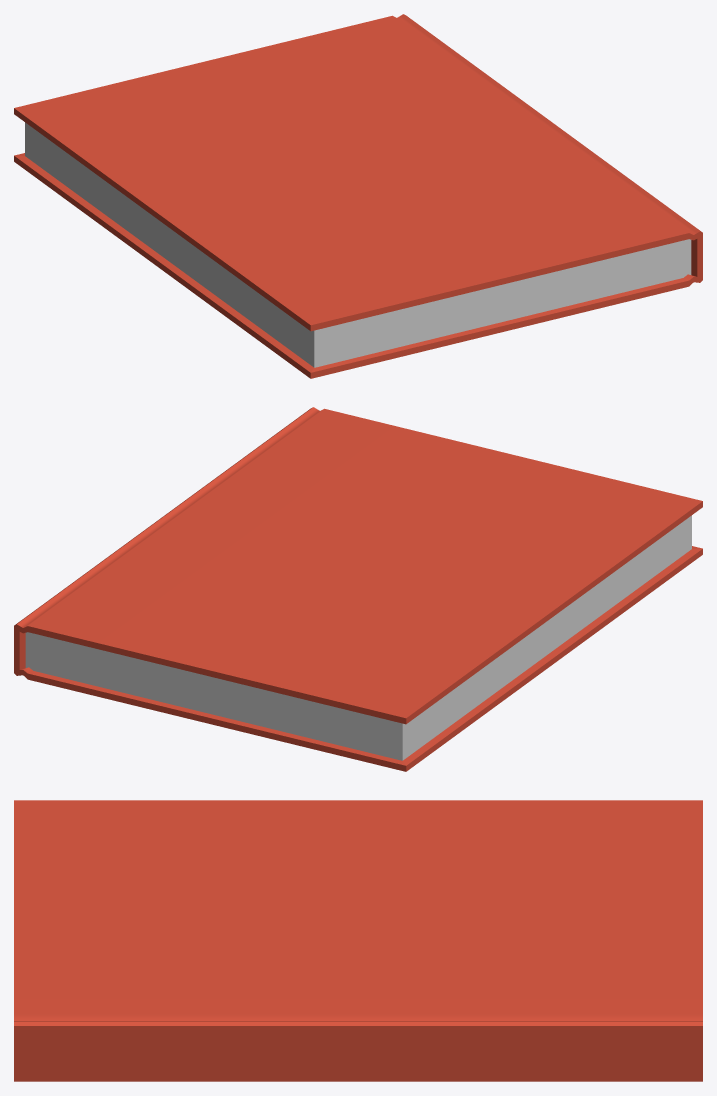
File: BgMD_book8.fbx
The picture shows the model from 3 angles, top to bottom: view 1: azimuth 30°, elevation 25°; view 2: azimuth 150°, elevation 25°; view 3: azimuth 270°, elevation 25°; orthographic projection. The views are drawn at different scales.
Visible parts, largest first — view 1: Bg_Book7; view 2: Bg_Book7; view 3: Bg_Book7.
Boxes of the visible parts, left/top/right/bottom form: Bg_Book7: left=14, top=14, right=702, bottom=378; Bg_Book7: left=14, top=407, right=702, bottom=771; Bg_Book7: left=14, top=800, right=702, bottom=1081.
Bounding box in the file's own units: 14.8 × 1.93 × 19.4.
Materials: 1 (1 with a texture image).
